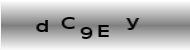9: (79, 26, 92, 39)
C: (59, 16, 75, 29)
E: (96, 23, 109, 38)
d: (35, 19, 49, 33)
y: (125, 17, 140, 30)
